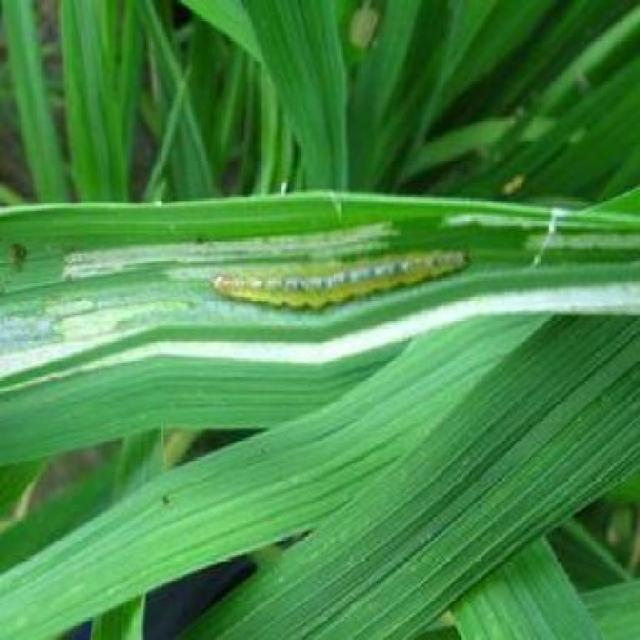leaf-folder: (208, 240, 474, 322)
